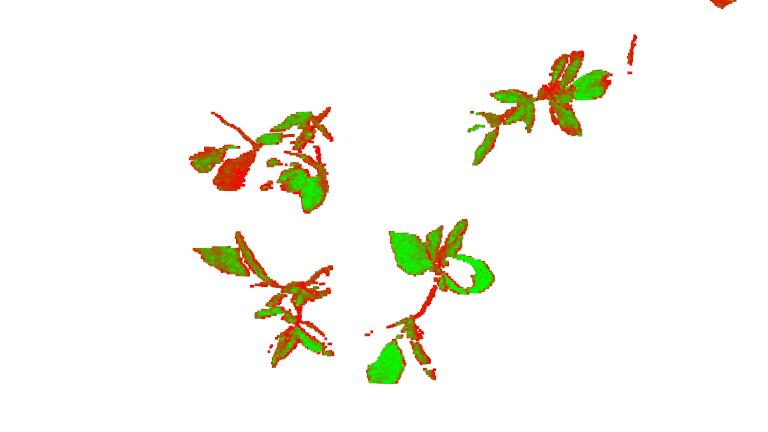mungbean: (186, 226, 341, 372), (366, 220, 502, 386), (463, 44, 614, 172), (180, 99, 334, 214)
